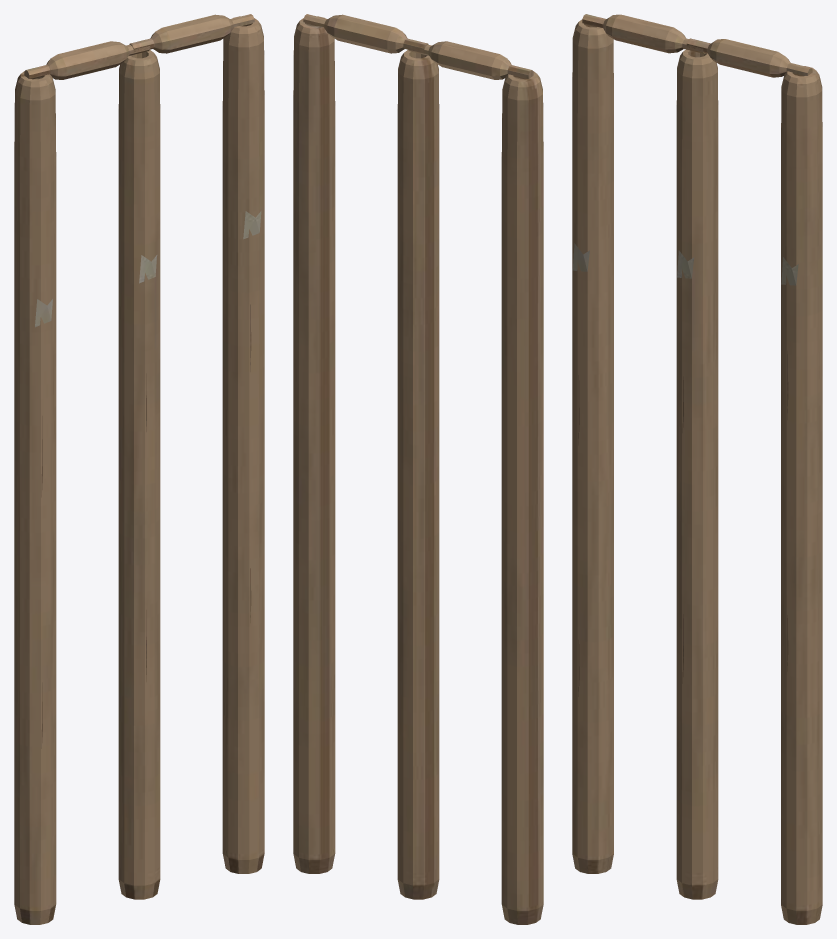
Rendered from SP01_cricket_stumps.glb.
The picture shows the model from 3 angles, left to right: view 1: azimuth 30°, elevation 25°; view 2: azimuth 150°, elevation 25°; view 3: azimuth 330°, elevation 25°; orthographic projection.
Parts seen in each view (by area): view 1: Weathered stump 0; view 2: Weathered stump 0; view 3: Weathered stump 0.
Part boxes in pixels (x1=…): Weathered stump 0: x1=14, y1=14, x2=264, y2=924; Weathered stump 0: x1=293, y1=14, x2=543, y2=924; Weathered stump 0: x1=572, y1=14, x2=822, y2=924.
Bounding box in the file's own units: 0.2392 × 0.8 × 0.0362.
Materials: 3 (3 with a texture image).
